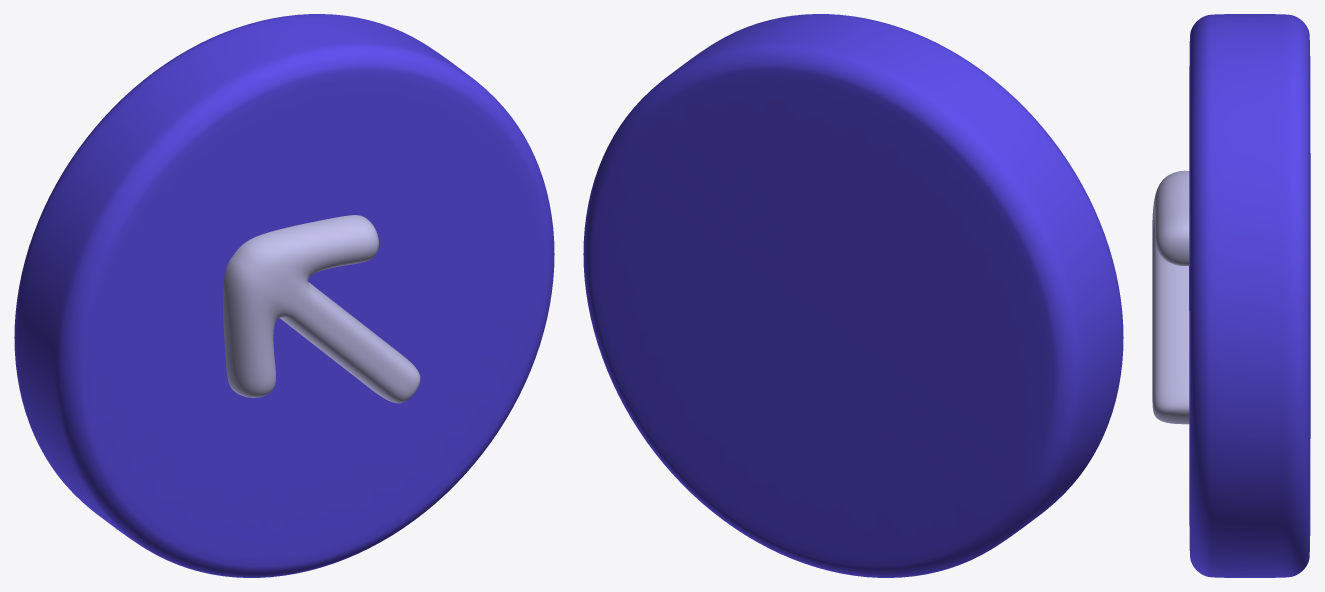
Rendered from go-back-animated-3d-icon-491726317581.glb.
3 views of the same model, side by side, from view 1: azimuth 30°, elevation 25°; view 2: azimuth 150°, elevation 25°; view 3: azimuth 270°, elevation 25° (orthographic).
Parts seen in each view (by area): view 1: Base.012, Arrow Base.010; view 2: Base.012; view 3: Base.012, Arrow Base.010.
Part boxes in pixels (x1,y1,x2,y2): Base.012: [14, 14, 554, 577]; Arrow Base.010: [223, 215, 420, 403]; Base.012: [583, 14, 1123, 577]; Base.012: [1189, 14, 1310, 577]; Arrow Base.010: [1152, 170, 1189, 424].
Size of the model in its own units: 1.99 by 1.99 by 0.5575.
